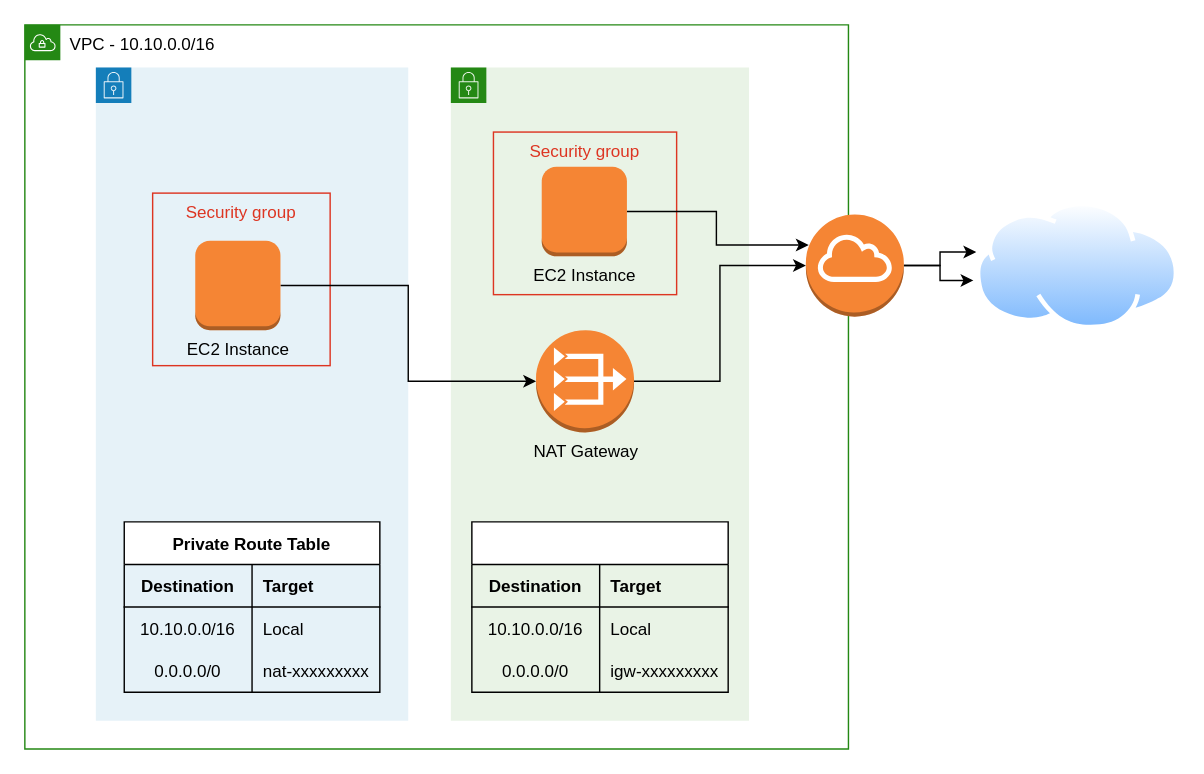
This 1204x774 diagram has some shape labels left out. The box of each missing label's shape, as (x1, y1, x2, y2) in pixels:
Internet Gateway: (804, 213, 904, 317)
Private subnet - 10.10.0.0/24: (94, 66, 408, 721)
Public Route Table: (470, 520, 728, 692)
Public subnet - 10.10.1.0/24: (449, 66, 749, 721)
